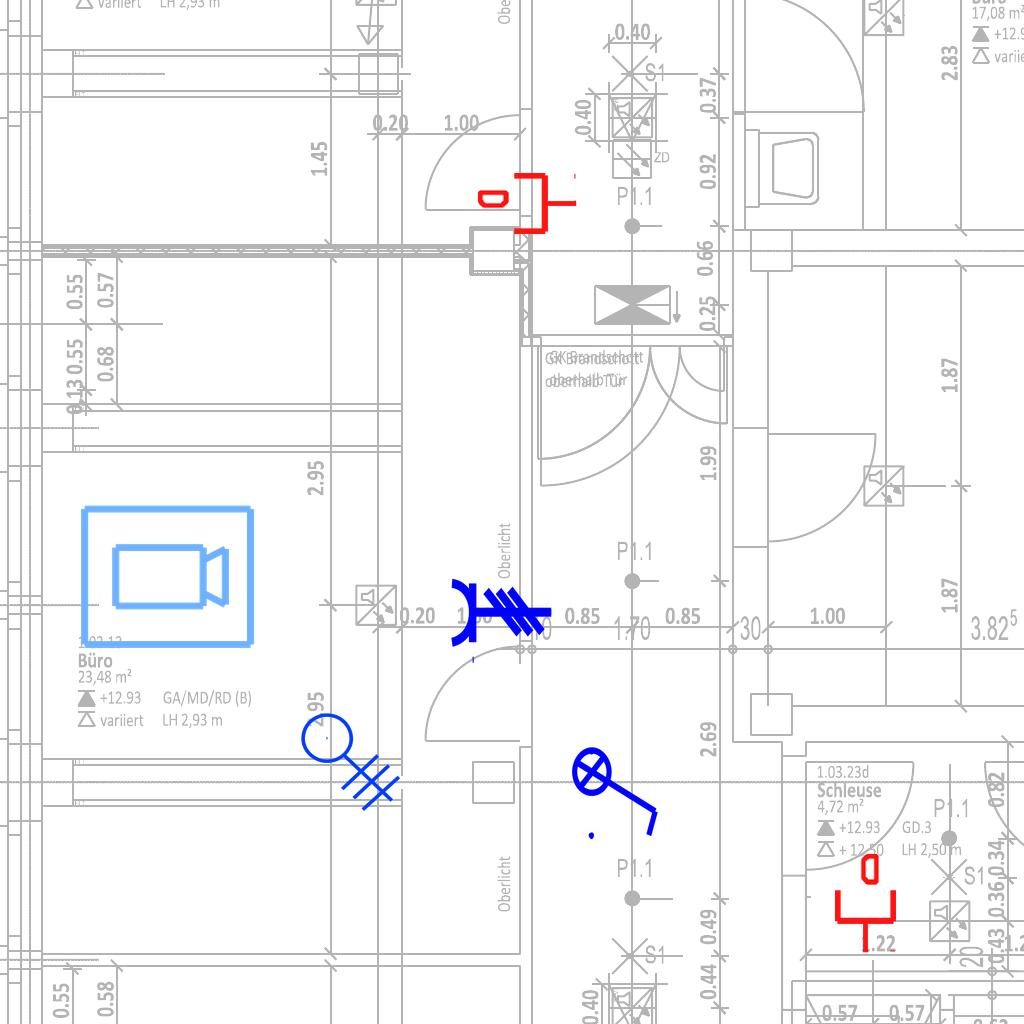Ausschalter_beleuchtet: (570, 733, 666, 845)
CEE_Drehstrom_Steckdose_16_32_A: (449, 576, 553, 666)
Datenanschluss_einfach: (831, 854, 900, 954), (478, 169, 578, 238)
Elektroanschluss_allgemein_400V_Geraeteanschlussdose_400V: (300, 696, 413, 812)
KFO_Kamera_mit_Festobjektiv: (76, 501, 258, 655)
